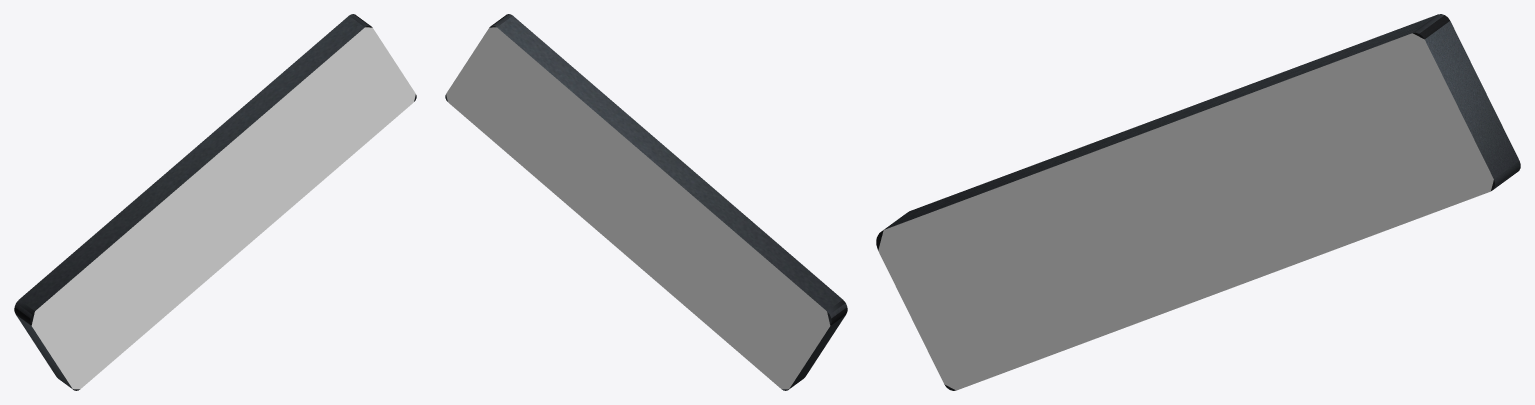
File: T_Handle.obj
3 views of the same model, side by side, from view 1: azimuth 30°, elevation 25°; view 2: azimuth 150°, elevation 25°; view 3: azimuth 330°, elevation 25° (orthographic). The views are drawn at different scales.
Parts seen in each view (by area): view 1: pCube1; view 2: pCube1; view 3: pCube1.
Boxes of the visible parts, <box> form: pCube1: <box>14,14,416,390</box>; pCube1: <box>445,14,847,390</box>; pCube1: <box>876,14,1520,390</box>.
Size of the model in its own units: 20.69 by 15.05 by 1.49.
Materials: 1 (1 with a texture image).
